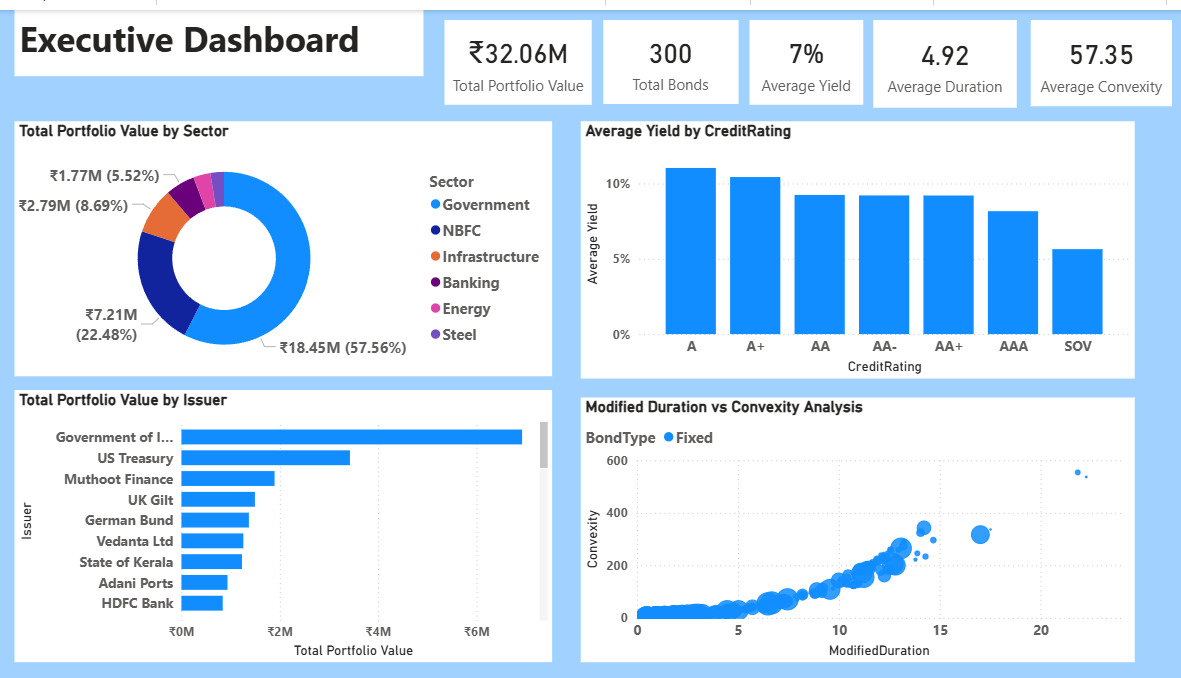

What the dashboard file says about the page in this screenshot:
{"tool":"powerbi","page":{"name":"Executive Dashboard.","canvas":[1280,720],"ordinal":0},"visuals":[{"type":"textbox","box":[18.8,0,439.8,71.3],"z":0},{"type":"card","fields":{"Values":["bond_portfolio_data.Total Portfolio Value"]},"box":[481.4,10.8,158.7,91.4],"z":1000},{"type":"card","fields":{"Values":["bond_portfolio_data.Average Yield"]},"box":[809.6,10.8,122.4,91.4],"z":2000},{"type":"card","fields":{"Values":["bond_portfolio_data.Total Bonds"]},"box":[652.2,10.8,145.2,90.1],"z":3000},{"type":"card","fields":{"Values":["bond_portfolio_data.Average Duration"]},"box":[942.7,10.8,154.7,94.1],"z":4000},{"type":"card","fields":{"Values":["bond_portfolio_data.Average Convexity"]},"box":[1112.2,10.8,152,92.8],"z":5000},{"type":"donutChart","fields":{"Category":["bond_portfolio_data.Sector"],"Y":["bond_portfolio_data.Total Portfolio Value"]},"box":[18.8,119.7,578.3,274.3],"z":6000},{"type":"clusteredBarChart","fields":{"Category":["bond_portfolio_data.Issuer"],"Y":["bond_portfolio_data.Total Portfolio Value"]},"box":[18.8,408.8,578.3,293.2],"z":7000},{"type":"clusteredColumnChart","fields":{"Category":["bond_portfolio_data.CreditRating"],"Y":["bond_portfolio_data.Average Yield"]},"box":[628,119.7,595.8,277],"z":8000},{"type":"scatterChart","title":"Modified Duration vs Convexity Analysis","fields":{"X":["bond_portfolio_data.ModifiedDuration"],"Y":["bond_portfolio_data.Convexity"],"Size":["Sum(bond_portfolio_data.MarketValue_INR)"],"Series":["bond_portfolio_data.BondType"]},"box":[628,416.9,595.8,285.1],"z":9000}]}

Visuals, with their boxes in screenshot pixels (x1, y1, x2, y2), scaled from the page's 1280x720 canvas onto the 1181x678 screenshot:
textbox: [17, 0, 423, 67]
card - bond_portfolio_data.Total Portfolio Value: [444, 10, 591, 96]
card - bond_portfolio_data.Average Yield: [747, 10, 860, 96]
card - bond_portfolio_data.Total Bonds: [602, 10, 736, 95]
card - bond_portfolio_data.Average Duration: [870, 10, 1013, 99]
card - bond_portfolio_data.Average Convexity: [1026, 10, 1166, 98]
donutChart - bond_portfolio_data.Sector x bond_portfolio_data.Total Portfolio Value: [17, 113, 551, 371]
clusteredBarChart - bond_portfolio_data.Issuer x bond_portfolio_data.Total Portfolio Value: [17, 385, 551, 661]
clusteredColumnChart - bond_portfolio_data.CreditRating x bond_portfolio_data.Average Yield: [579, 113, 1129, 374]
"Modified Duration vs Convexity Analysis" scatterChart: [579, 393, 1129, 661]
